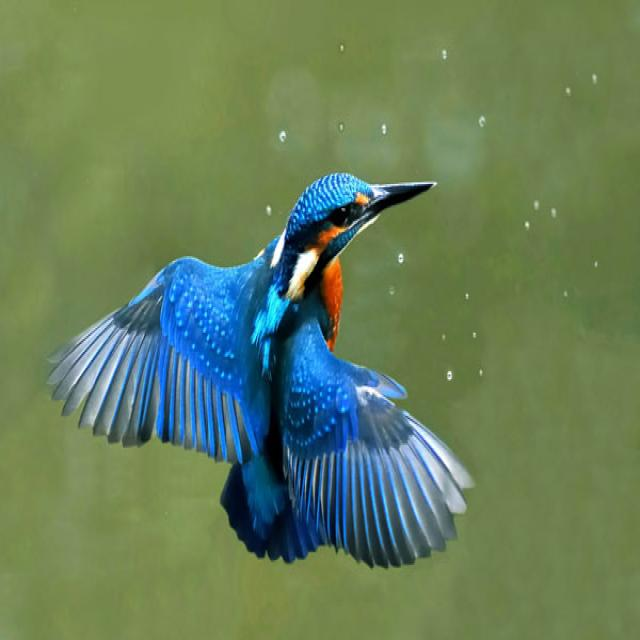kingfisher: (46, 166, 485, 574)
